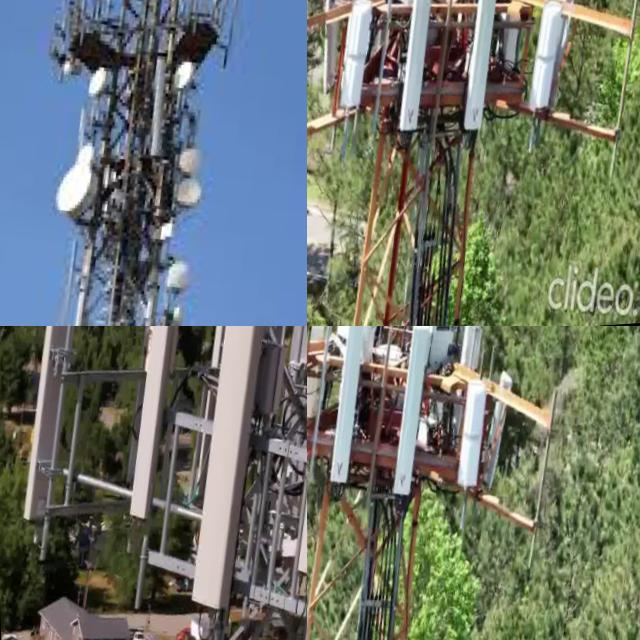GSM Antenna: (168, 326, 299, 626), (0, 326, 106, 531), (113, 326, 194, 528), (376, 326, 448, 526), (310, 326, 378, 498), (445, 0, 517, 157), (380, 0, 449, 144), (276, 326, 307, 594), (442, 373, 501, 505), (515, 0, 574, 123), (323, 0, 378, 122), (262, 326, 307, 454), (136, 56, 181, 171), (196, 326, 266, 390), (307, 0, 352, 92), (307, 326, 340, 351)
Microwave Antenna: (41, 162, 105, 237), (167, 55, 201, 107), (167, 181, 205, 227), (76, 68, 112, 113), (174, 144, 210, 184), (70, 139, 107, 177), (162, 263, 197, 303), (154, 300, 195, 326), (54, 61, 76, 88)
